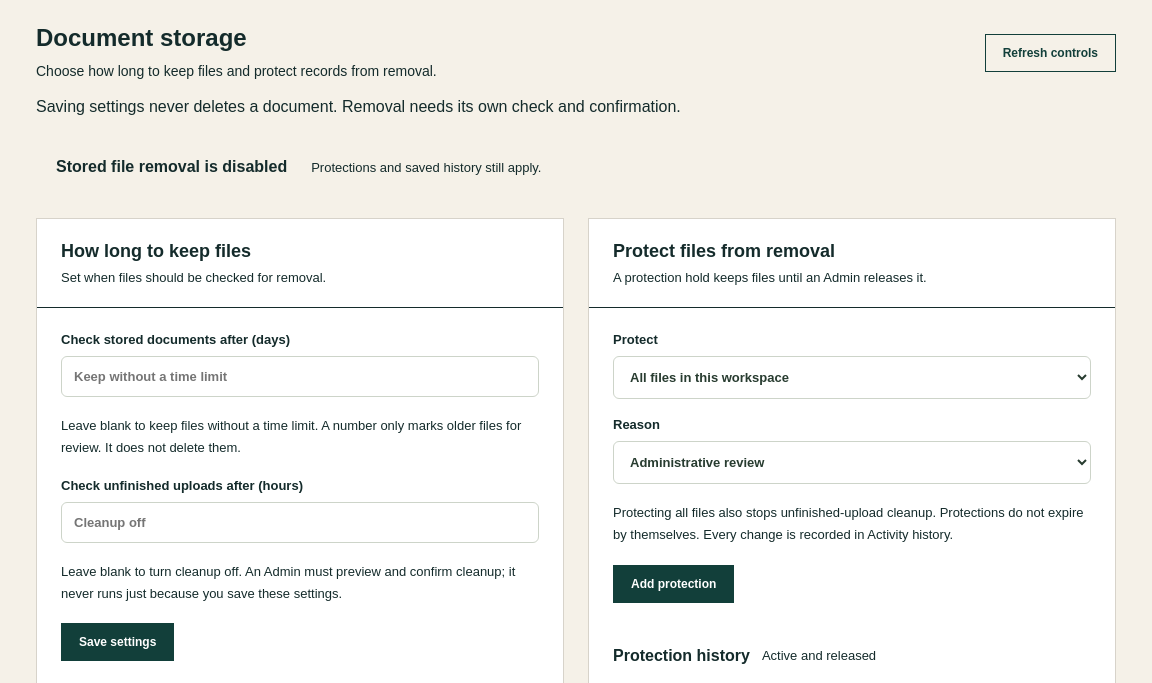
preserves a settings draft and its original version across refresh
Type "30" into the number field labelled "Check stored documents after (days)". click: (300, 377)
box: [61,356,539,397]
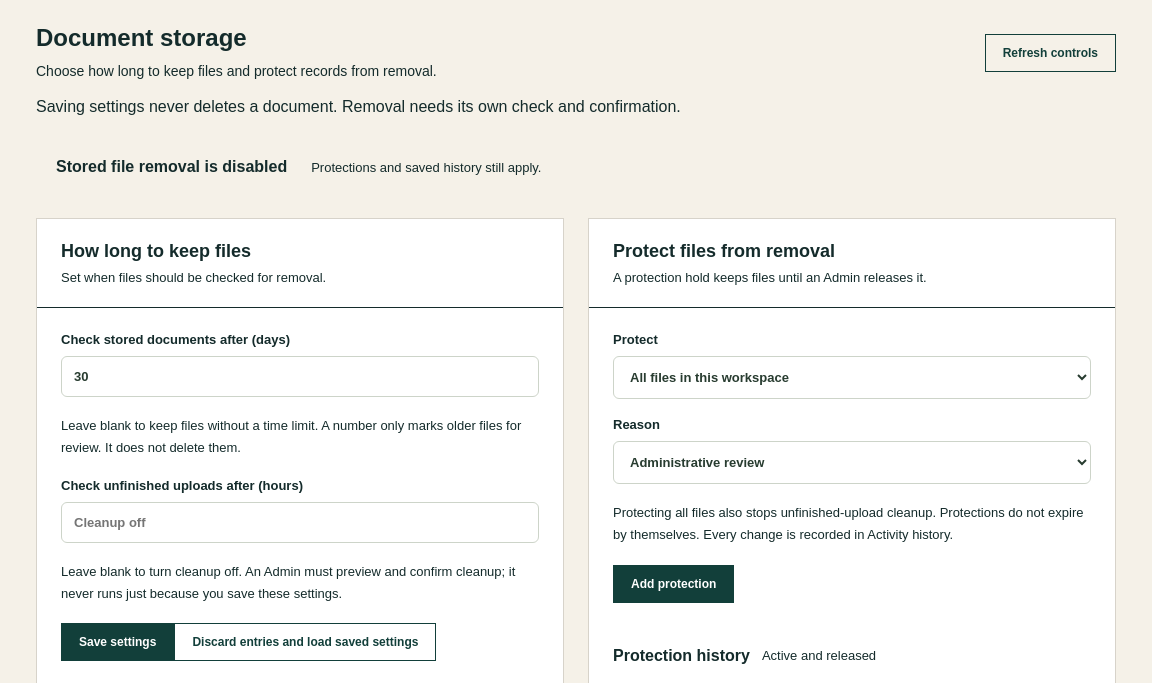
Click the button "Refresh controls". click: (1050, 53)
box: [985,34,1116,72]
(page scrolled)
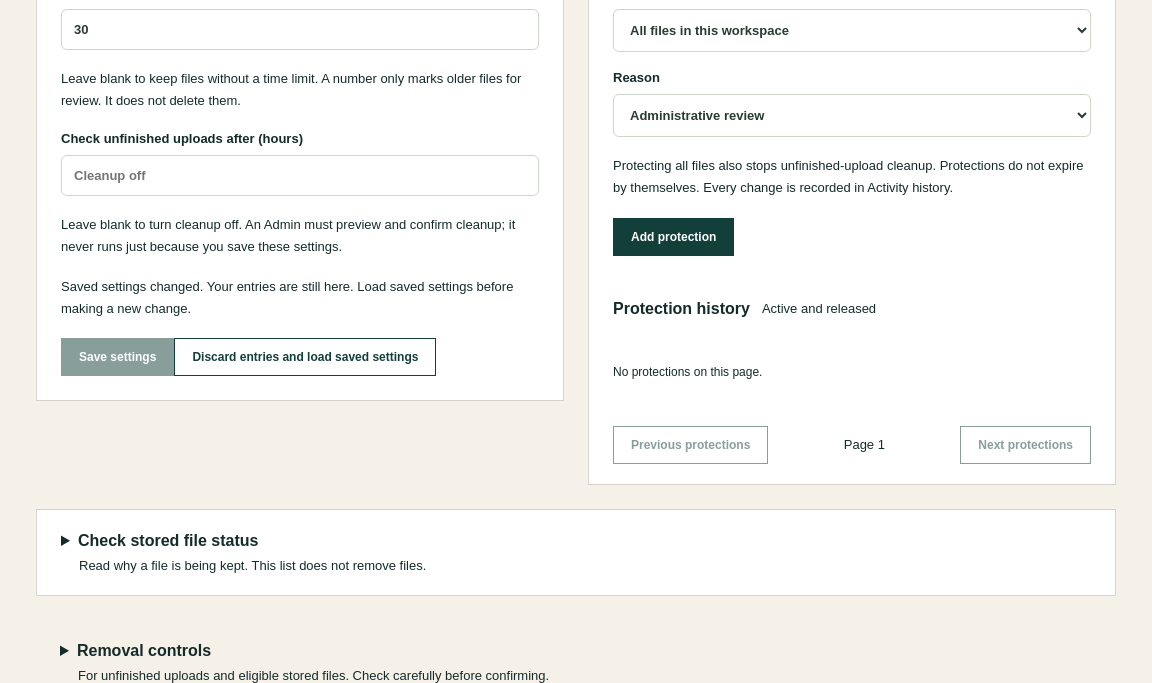
Expected: the text "Saved settings changed" is shown, [61,279,513,316]
Expected: the button "Save settings" is disabled, [61,338,174,376]
Click the button "Discard entries and load saved settings". click: (305, 357)
box: [174,338,436,376]
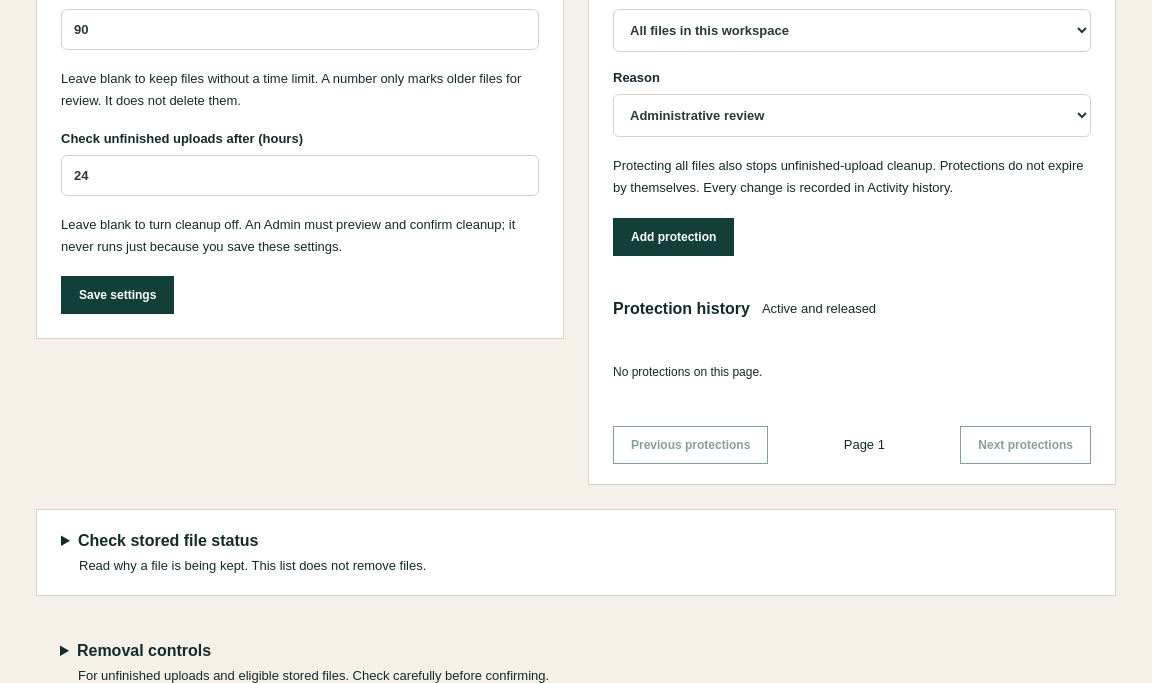
Expected: the number field labelled "Check stored documents after (days)" holds "90", [61,9,539,50]
Click the button "Save settings". click: (118, 295)
box: [61,276,174,314]
(page scrolled)
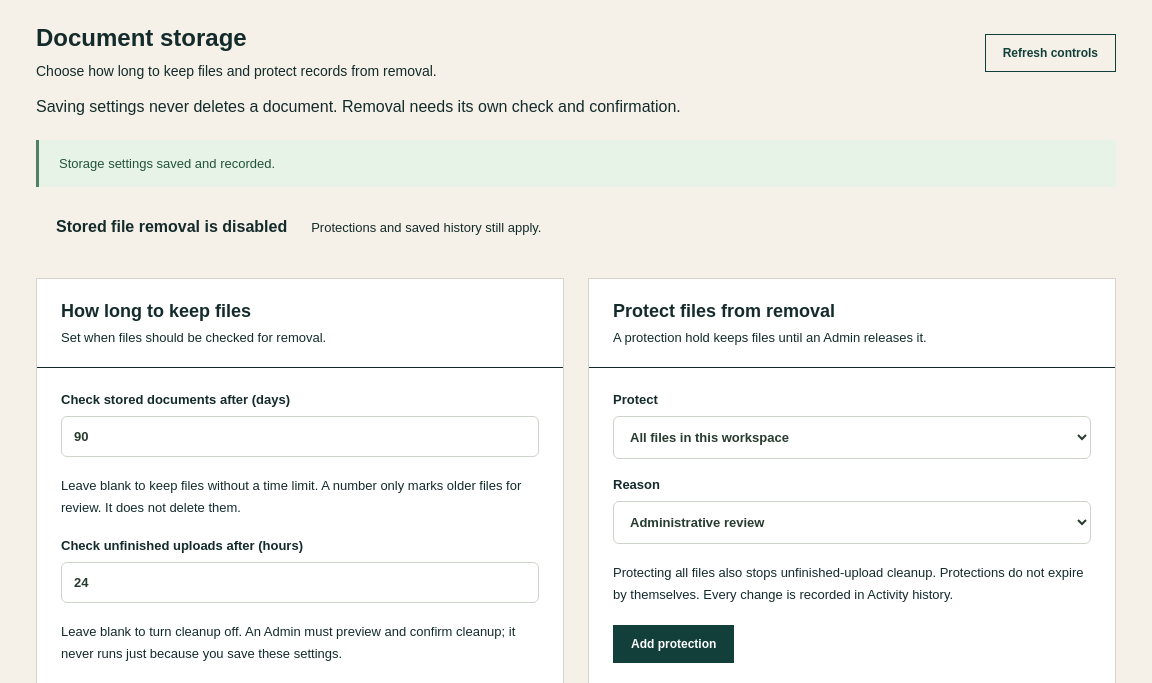
Expected: the text "Storage settings saved and recorded." is shown, [36,140,1116,187]
